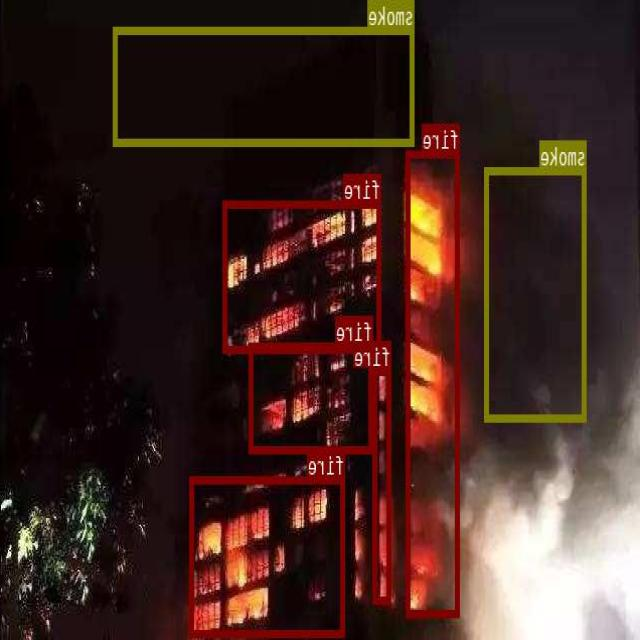fire: (191, 476, 346, 636), (407, 149, 460, 615), (224, 200, 381, 352), (250, 342, 373, 452), (374, 367, 391, 602)
smoke: (114, 27, 415, 145), (486, 167, 587, 420)
